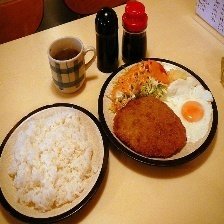rice: (7, 109, 98, 213)
